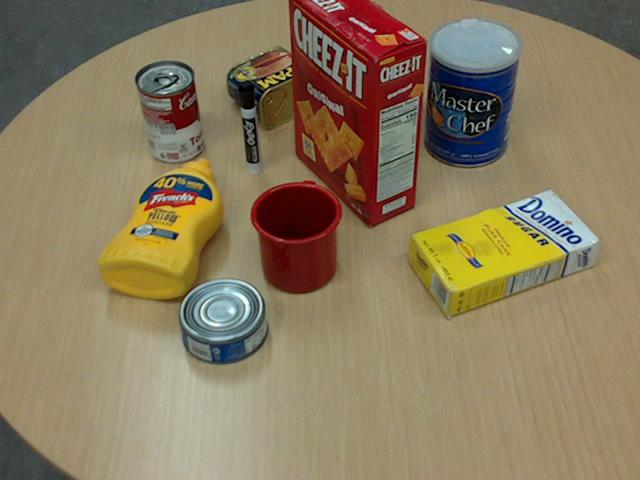cracker_box: (289, 0, 426, 223)
gelatin_box: (343, 48, 409, 107)
large_marker: (237, 82, 260, 175)
master_chef_can: (423, 19, 520, 168)
mug: (248, 181, 341, 292)
mustard_bottle: (97, 158, 222, 297)
potted_meat_can: (226, 46, 326, 127)
sugar_box: (407, 189, 600, 318)
tomato_soup_can: (135, 59, 202, 161)
tuna_fish_can: (177, 278, 267, 364)
